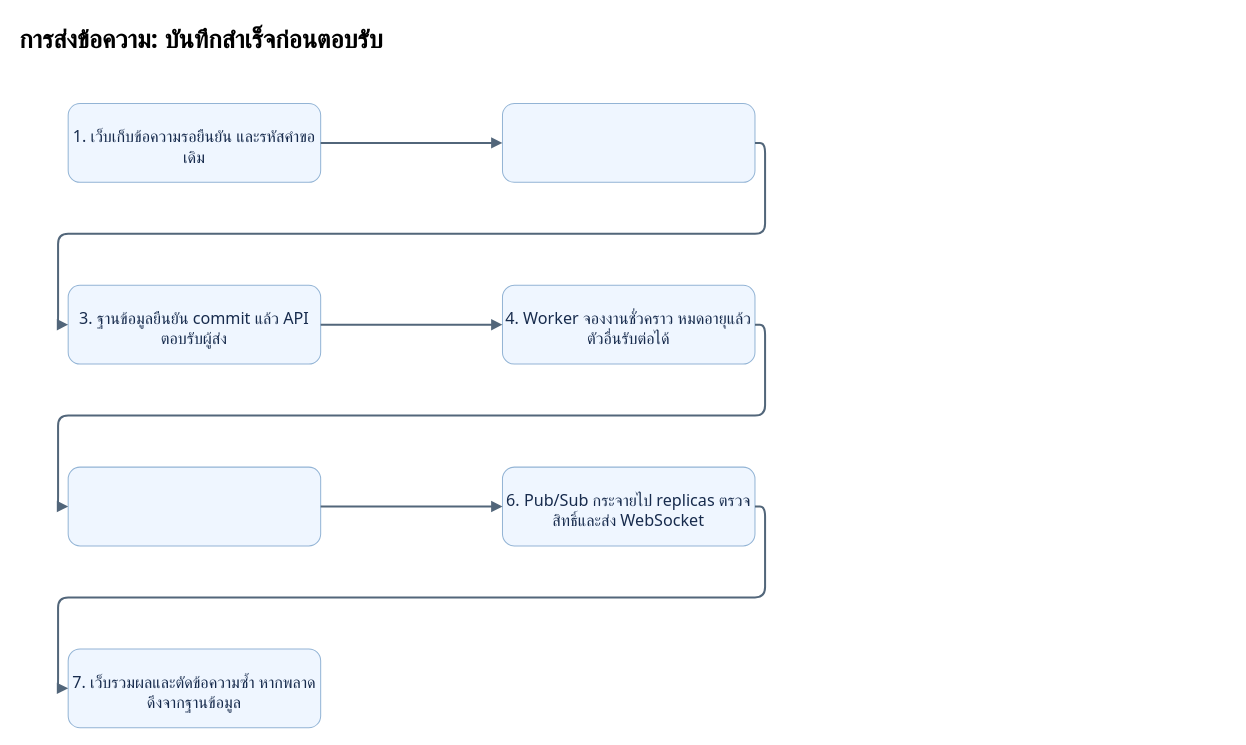
This 1246x745 diagram has some shape labels left out. The shapes that lost their labels are listed below. From the top down, each one's centre as x and y in pixels, then its label:
pixel 628 142: 2. API ตรวจสมาชิก / กันซ้ำ จัดลำดับและบันทึก message + outbox
pixel 194 506: 5. Worker ส่งแจ้งเตือน นอก transaction แล้วบันทึกผล
